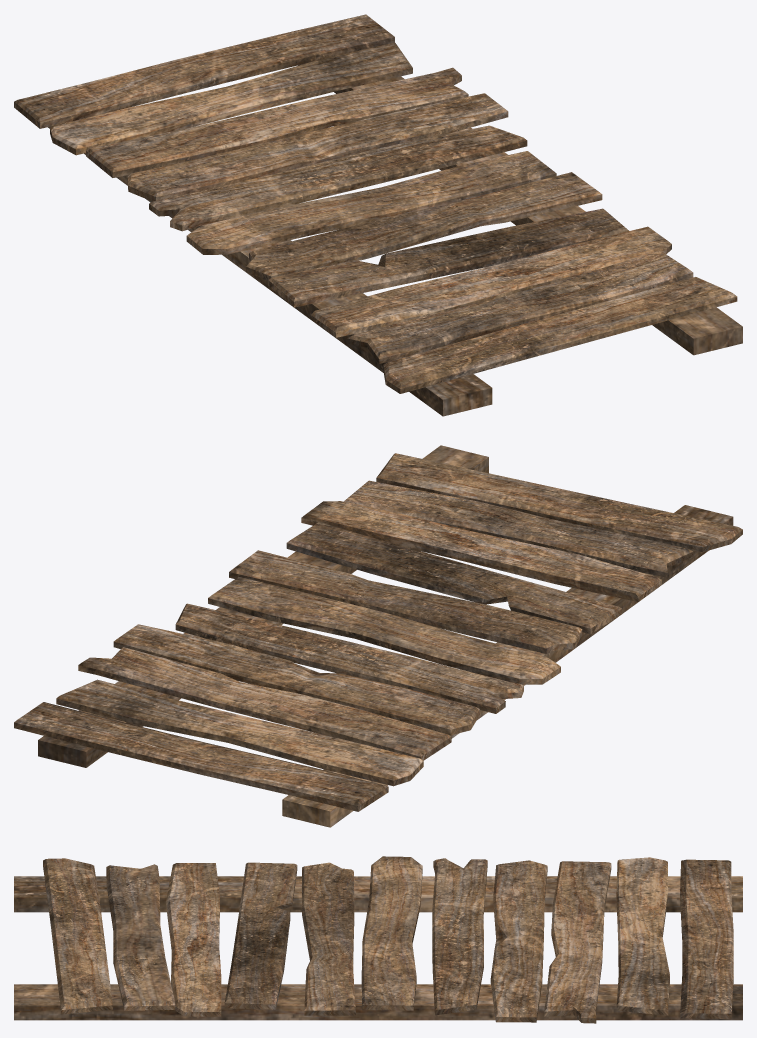
File: Bridge_2.fbx
The picture shows the model from 3 angles, top to bottom: view 1: azimuth 30°, elevation 25°; view 2: azimuth 150°, elevation 25°; view 3: azimuth 270°, elevation 25°; orthographic projection. The views are drawn at different scales.
Parts seen in each view (by area): view 1: Bridge_2; view 2: Bridge_2; view 3: Bridge_2.
Part boxes in pixels (box(x1,y1,x2,y2)): Bridge_2: box(14, 14, 742, 416); Bridge_2: box(14, 445, 742, 827); Bridge_2: box(14, 856, 742, 1023).
Size of the model in its own units: 3.45 by 0.2229 by 6.61.
Materials: 1 (1 with a texture image).
